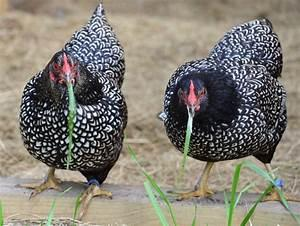hen: (7, 1, 136, 215), (157, 16, 288, 203)
